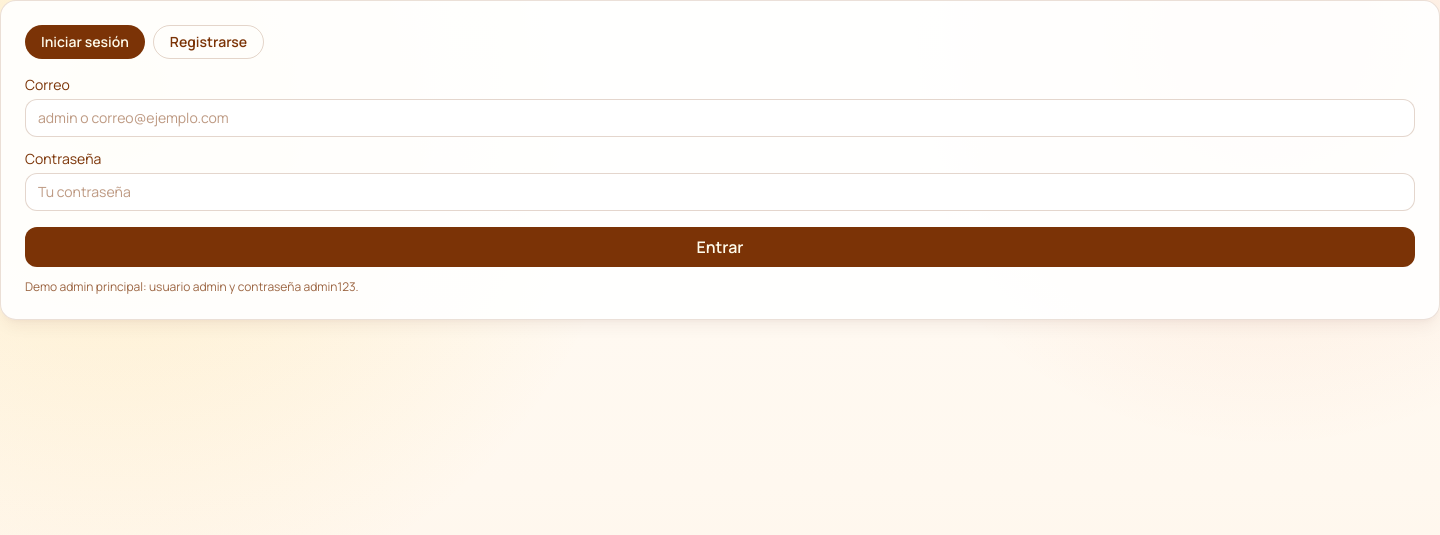
HU-01: registro desde UI de autenticación › muestra confirmación simulada y envía el rol seleccionado al registrar
This screenshot has width=1440, height=535.
Click the button "Registrarse" at {"x": 209, "y": 42}, box [153, 25, 264, 59]
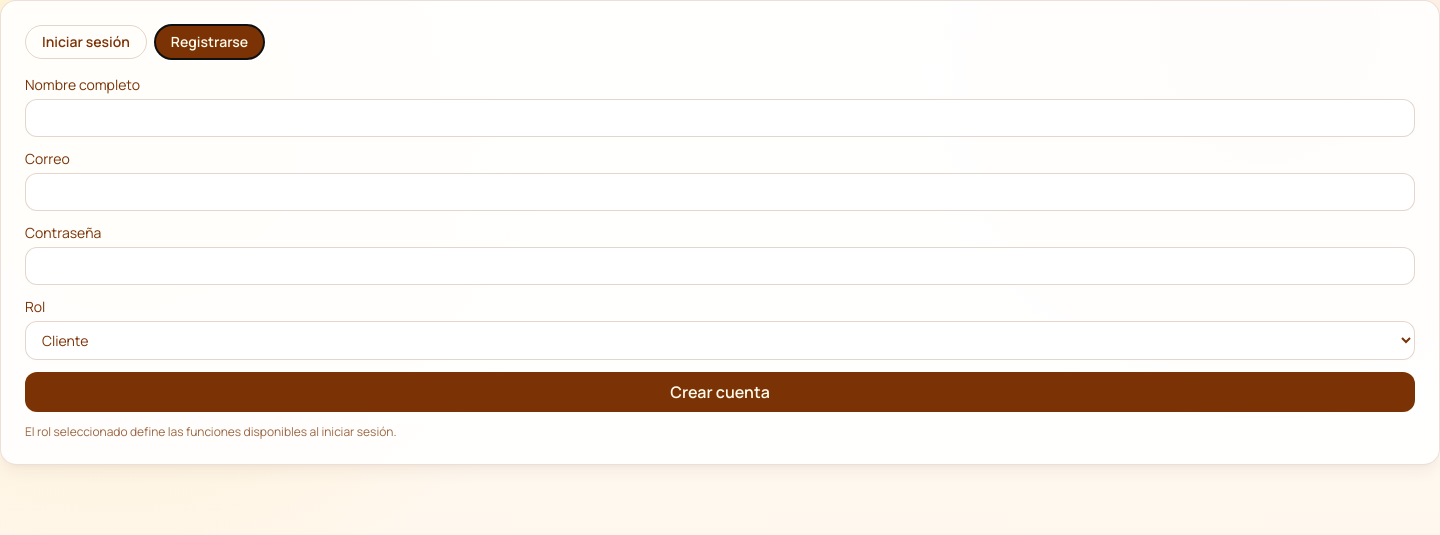
Type "Fábrica Demo" into the field labelled "Nombre completo" at {"x": 720, "y": 118}, box [25, 99, 1415, 137]
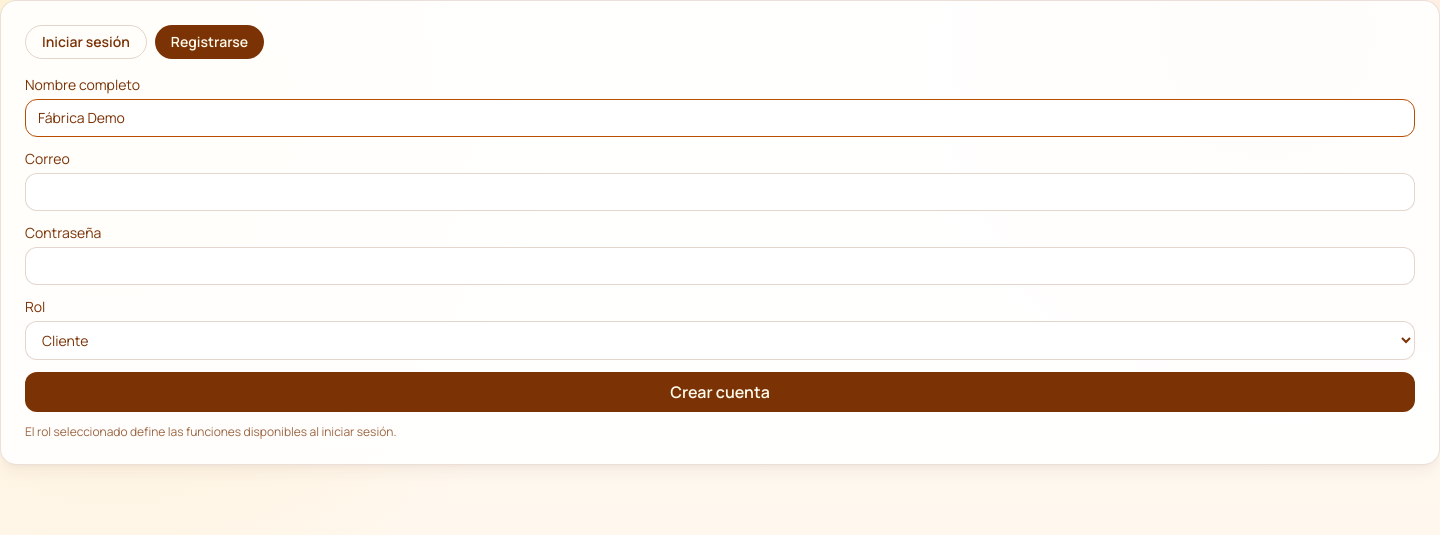
Type "fabrica@modainc.com" into the field labelled "Correo" at {"x": 720, "y": 192}, box [25, 173, 1415, 211]
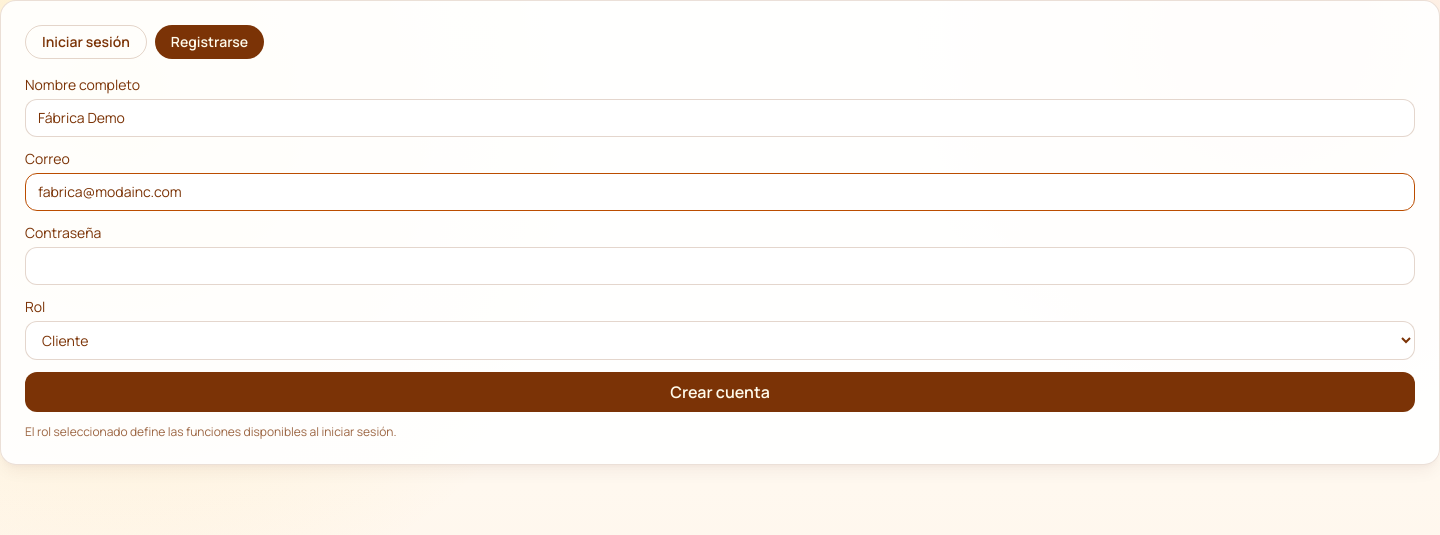
Type "123456" into the password field labelled "Contraseña" at {"x": 720, "y": 266}, box [25, 247, 1415, 285]
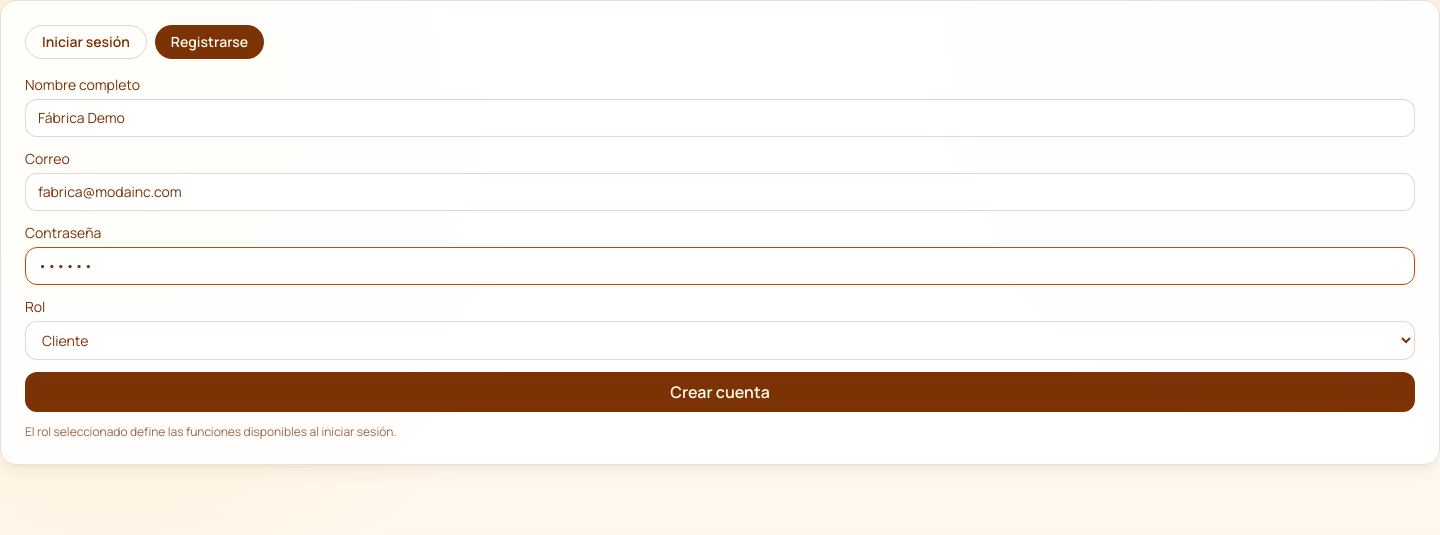
Select "Fabricante" in the dropdown labelled "Rol" at {"x": 720, "y": 340}, box [25, 321, 1415, 360]
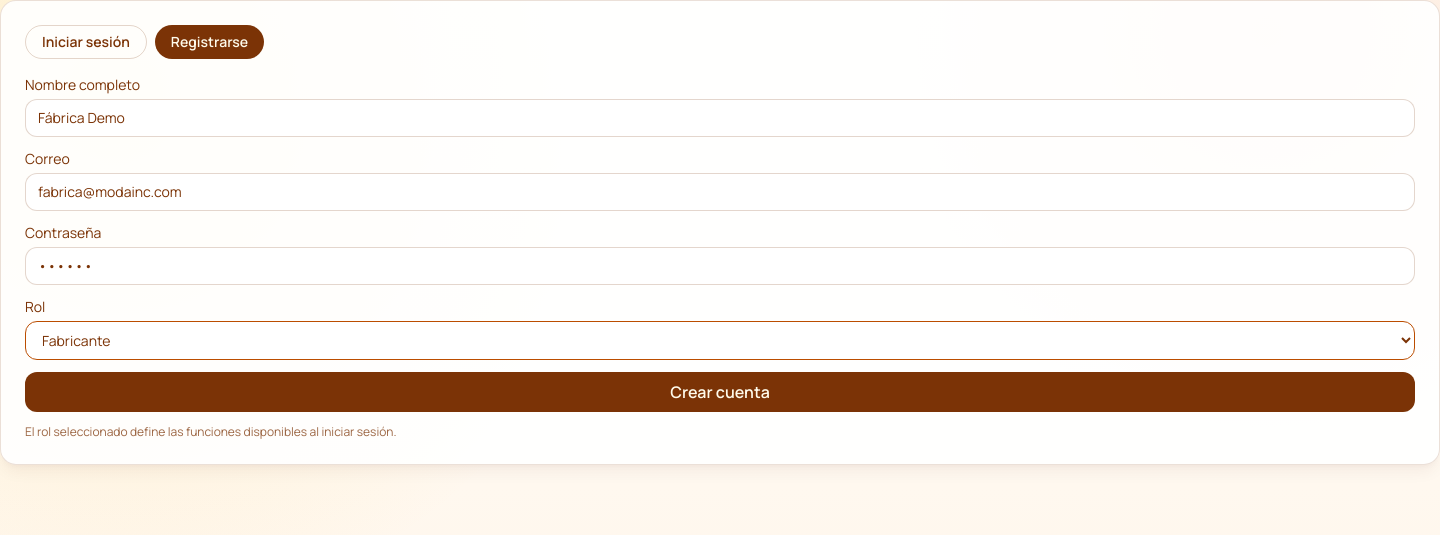
Click the button "Crear cuenta" at {"x": 720, "y": 392}, box [25, 372, 1415, 412]
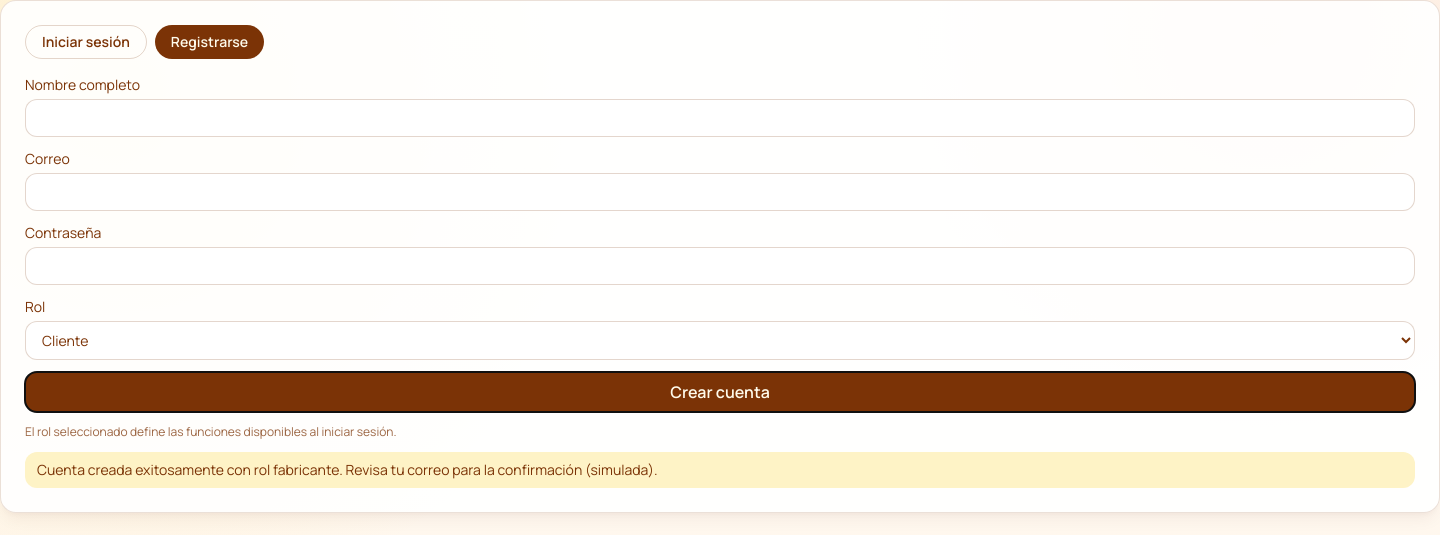
Now the text "rol fabricante" is shown, box [37, 460, 658, 479]
